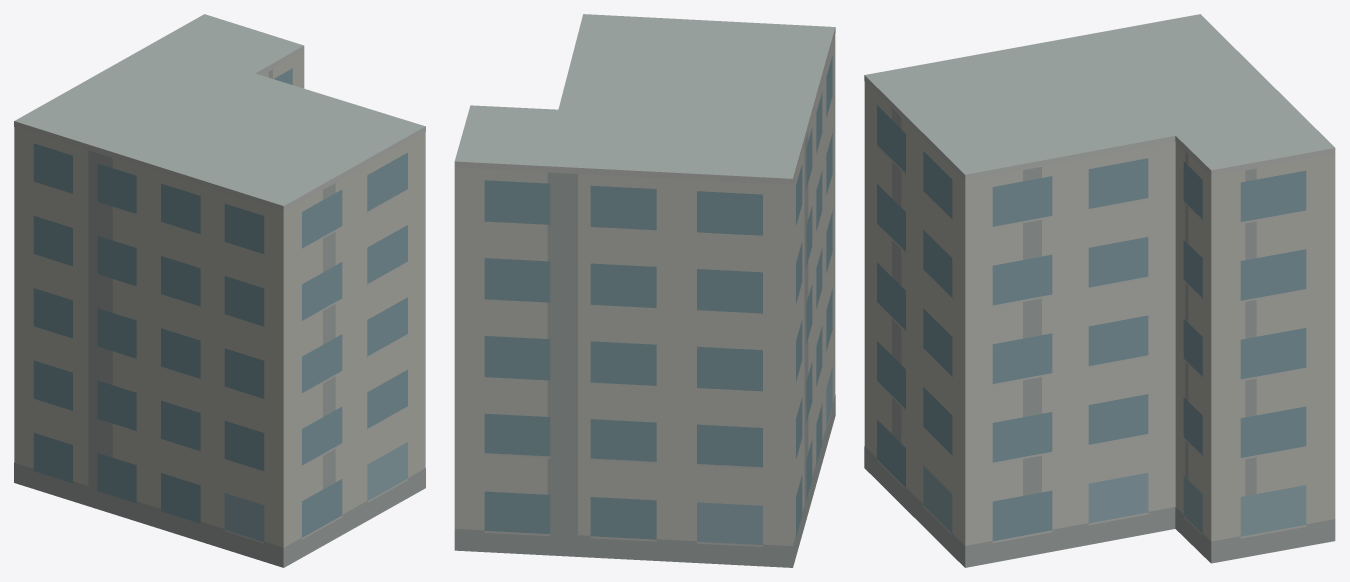
The model's file is survey-upis-32748604.glb.
3 renders of one model, left to right at view 1: azimuth 30°, elevation 25°; view 2: azimuth 150°, elevation 25°; view 3: azimuth 270°, elevation 25°, orthographic. The views are drawn at different scales.
Parts seen in each view (by area): view 1: survey-upis-32748604.tmp; view 2: survey-upis-32748604.tmp; view 3: survey-upis-32748604.tmp.
Part boxes in pixels (x1,y1,x2,y2): survey-upis-32748604.tmp: (14,14,425,567); survey-upis-32748604.tmp: (454,14,835,567); survey-upis-32748604.tmp: (864,14,1335,567).
Size of the model in its own units: 13.39 by 15.25 by 16.56.
